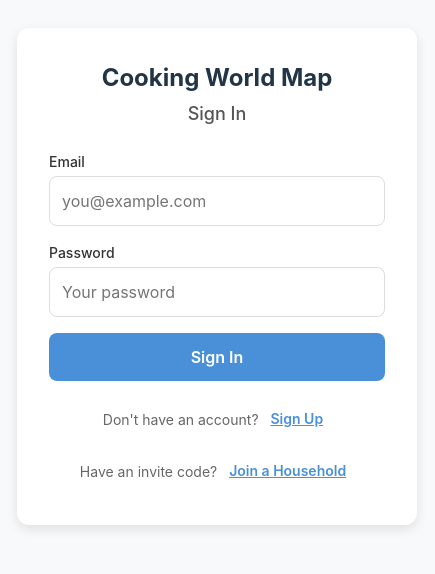
Test: AuthGate › shows validation error when email is empty
Expected: the field labelled "Email" is shown, [49, 176, 385, 226]
Type "somepassword" into the password field labelled "Password".
click(217, 292); type("somepassword")  # box [49, 266, 385, 316]
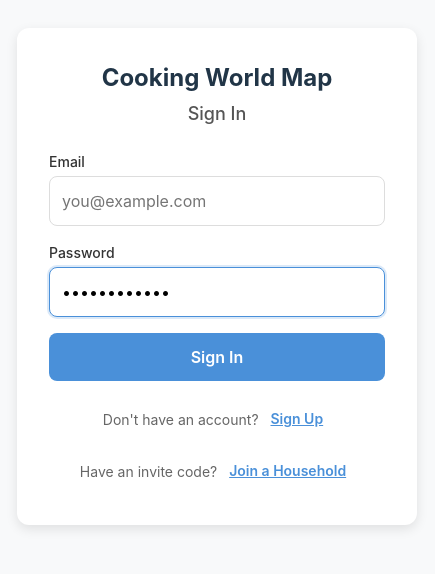
Click the button "Sign In".
click(217, 356)  # box [49, 332, 385, 380]
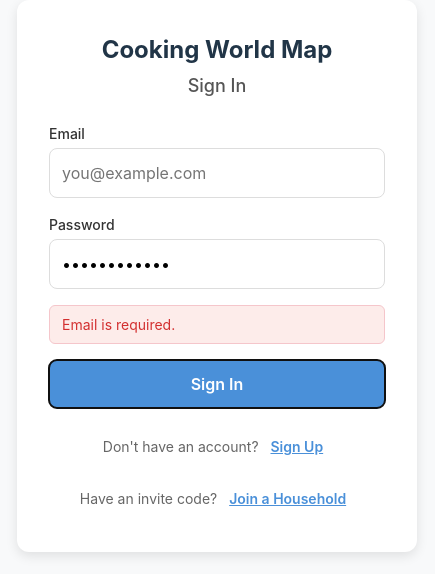
Result: the message shows "Email is required" at [62, 316, 175, 333]
